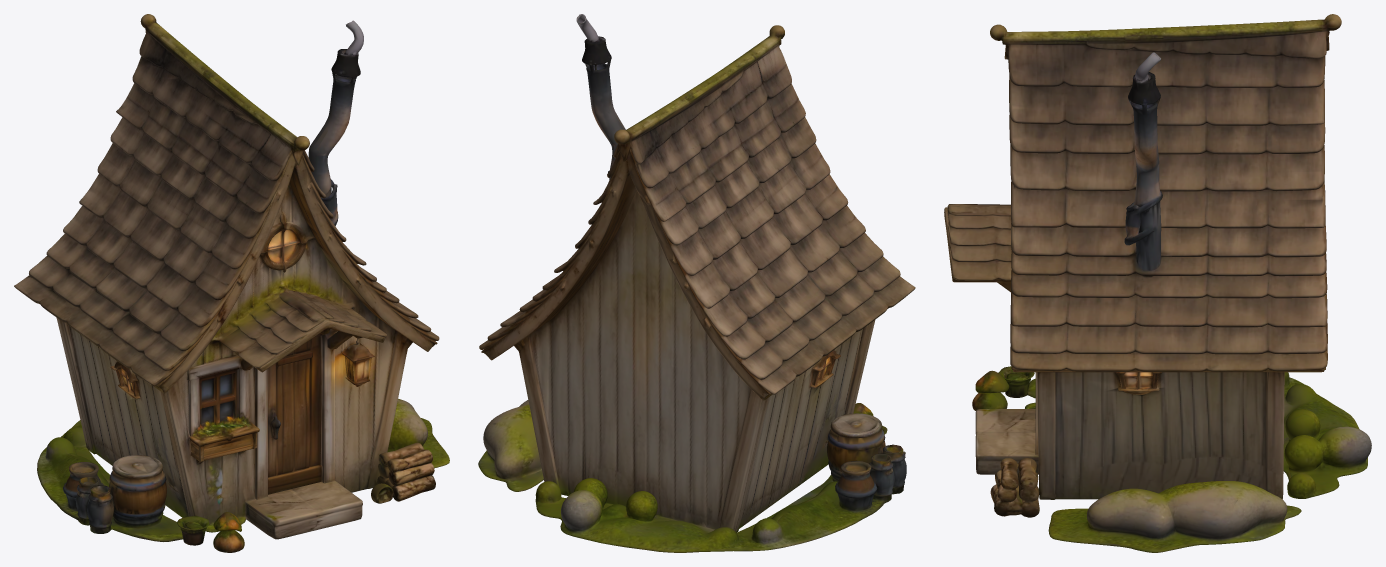
File: glb.glb
The picture shows the model from 3 angles, left to right: view 1: azimuth 30°, elevation 25°; view 2: azimuth 150°, elevation 25°; view 3: azimuth 270°, elevation 25°; orthographic projection. The views are drawn at different scales.
Parts seen in each view (by area): view 1: material; view 2: material; view 3: material.
Part boxes in pixels (x1,y1,x2,y2): material: (14, 14, 449, 552); material: (478, 14, 915, 552); material: (944, 14, 1371, 552).
Size of the model in its own units: 0.8038 by 0.8797 by 0.7404.
Materials: 1 (1 with a texture image).
